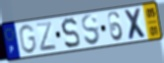6: (108, 11, 124, 43)
G: (18, 23, 38, 55)
S: (60, 16, 82, 50), (80, 14, 102, 47)
X: (123, 7, 149, 41)
Z: (35, 20, 58, 52)
